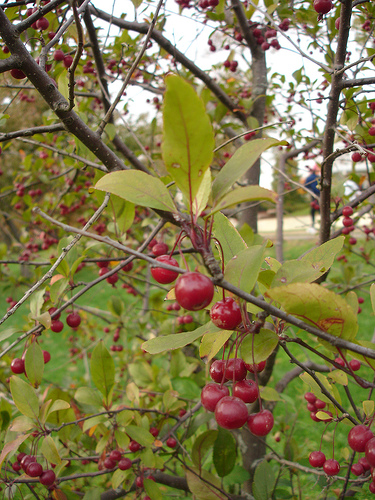apple: (172, 272, 217, 311), (214, 395, 251, 431)
